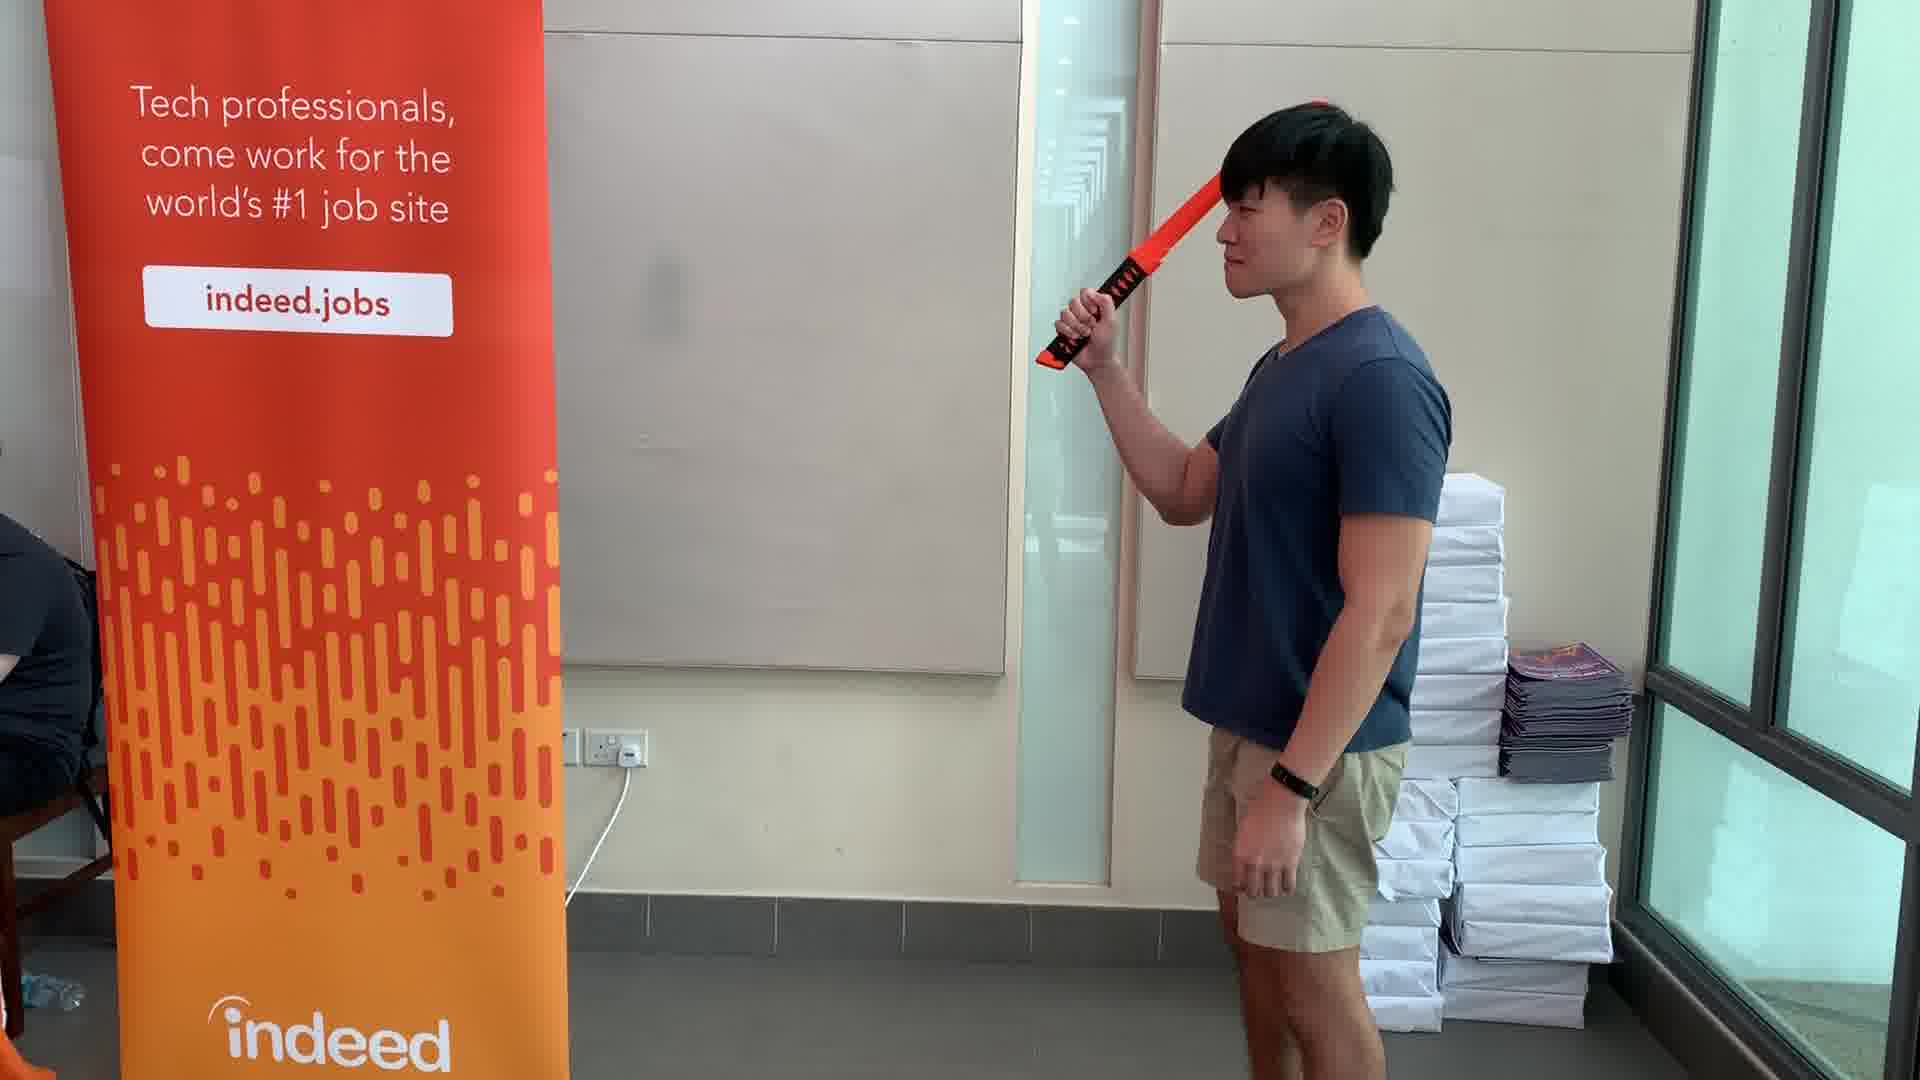knife: (1031, 152, 1244, 382)
